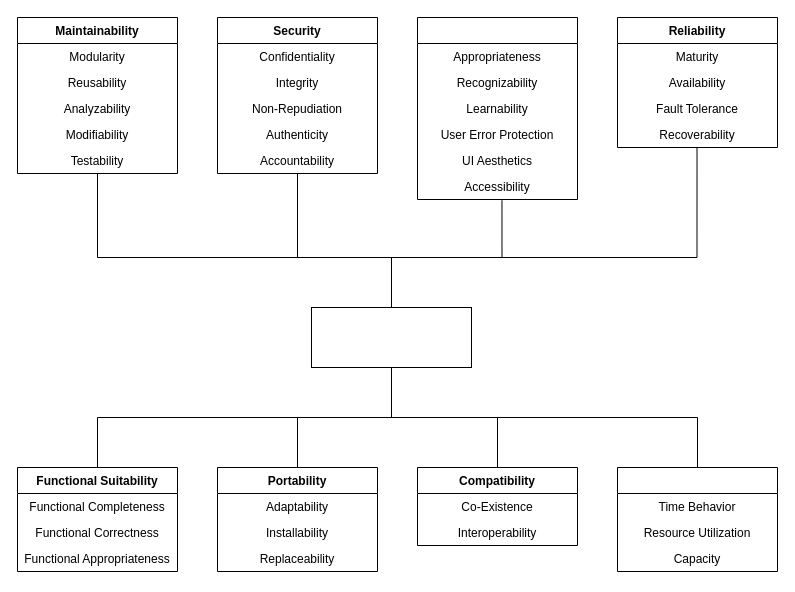
The diagram is 795 pixels wide and 592 high, and some of its shapes have lost their labels. Each missing label, with the box of its shape:
Performance Efficiency: (616, 466, 778, 572)
Software Product Quality: (310, 306, 472, 368)
Usability: (416, 16, 578, 200)
